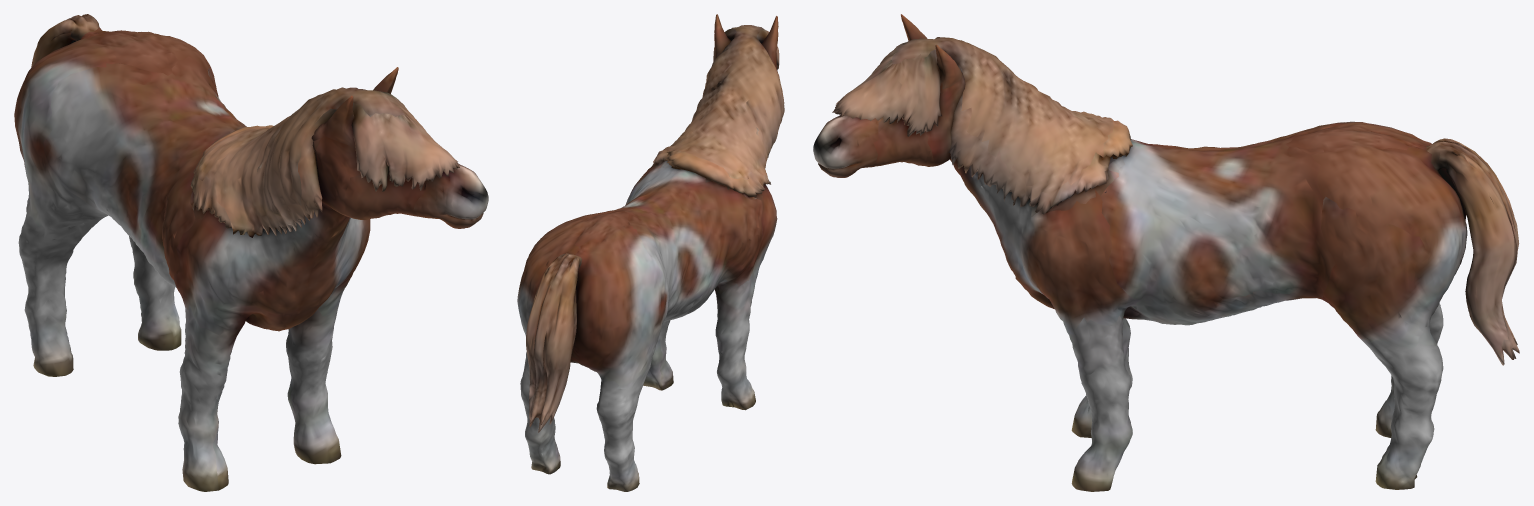
File: MZ4250 - Pony.glb
3 views of the same model, side by side, from view 1: azimuth 30°, elevation 25°; view 2: azimuth 150°, elevation 25°; view 3: azimuth 270°, elevation 25° (orthographic). The views are drawn at different scales.
Visible parts, largest first — view 1: SR Pony; view 2: SR Pony; view 3: SR Pony.
Part boxes in pixels (x1,y1,x2,y2): SR Pony: (14,14,488,491); SR Pony: (517,14,784,491); SR Pony: (813,14,1519,491).
Bounding box in the file's own units: 27.74 × 66.18 × 96.55.
1 material, 1 textured.
